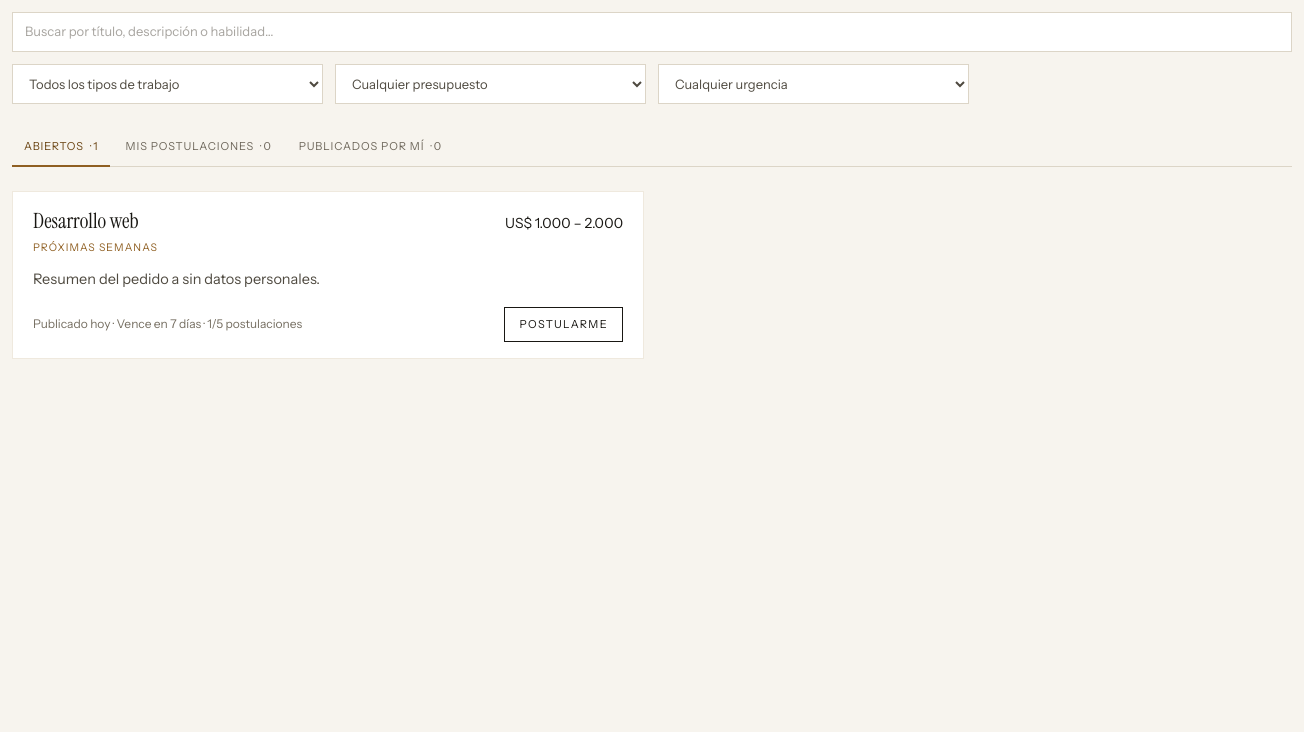
Scenario: BolsaTablero › si la base rechaza la postulación, muestra su mensaje
Click the button "Postularme".
click(564, 324)  # box [504,307,623,342]
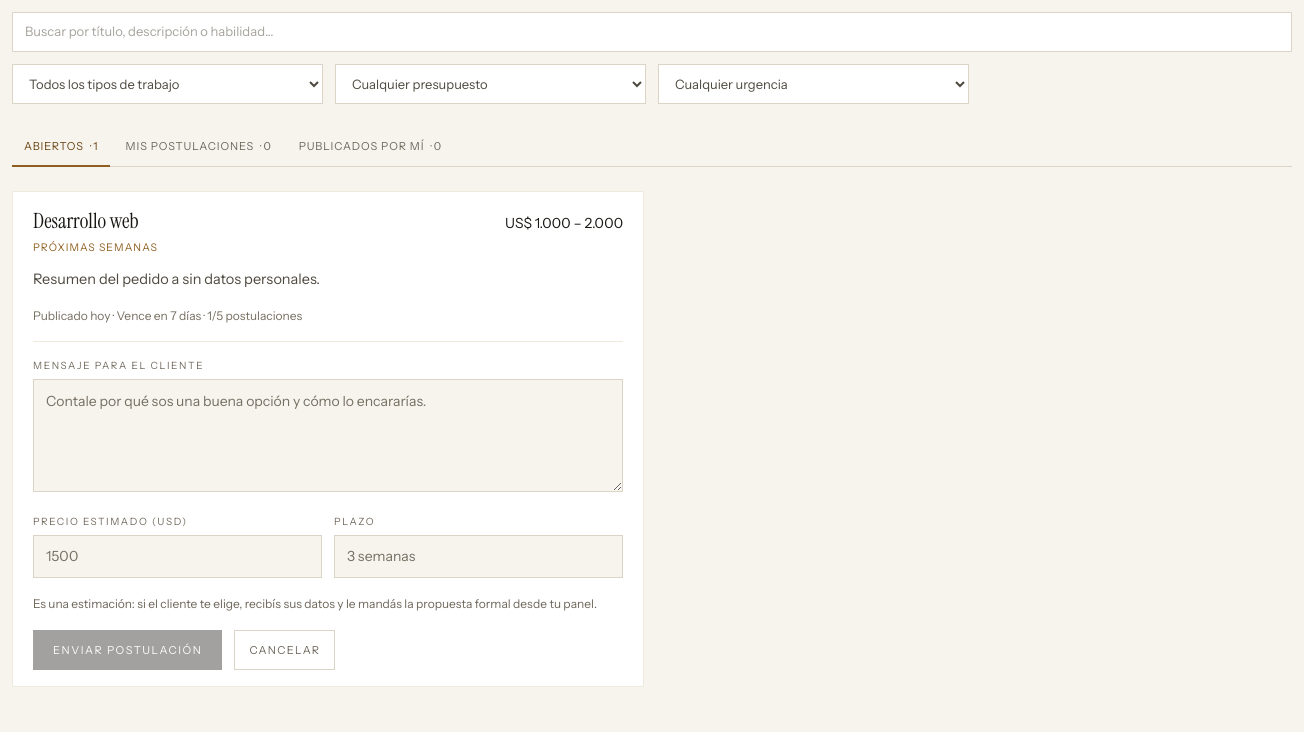
Type "Lo puedo hacer sin problema." into the text box labelled "Mensaje para el cliente".
click(328, 436); type("Lo puedo hacer sin problema.")  # box [33,379,623,492]
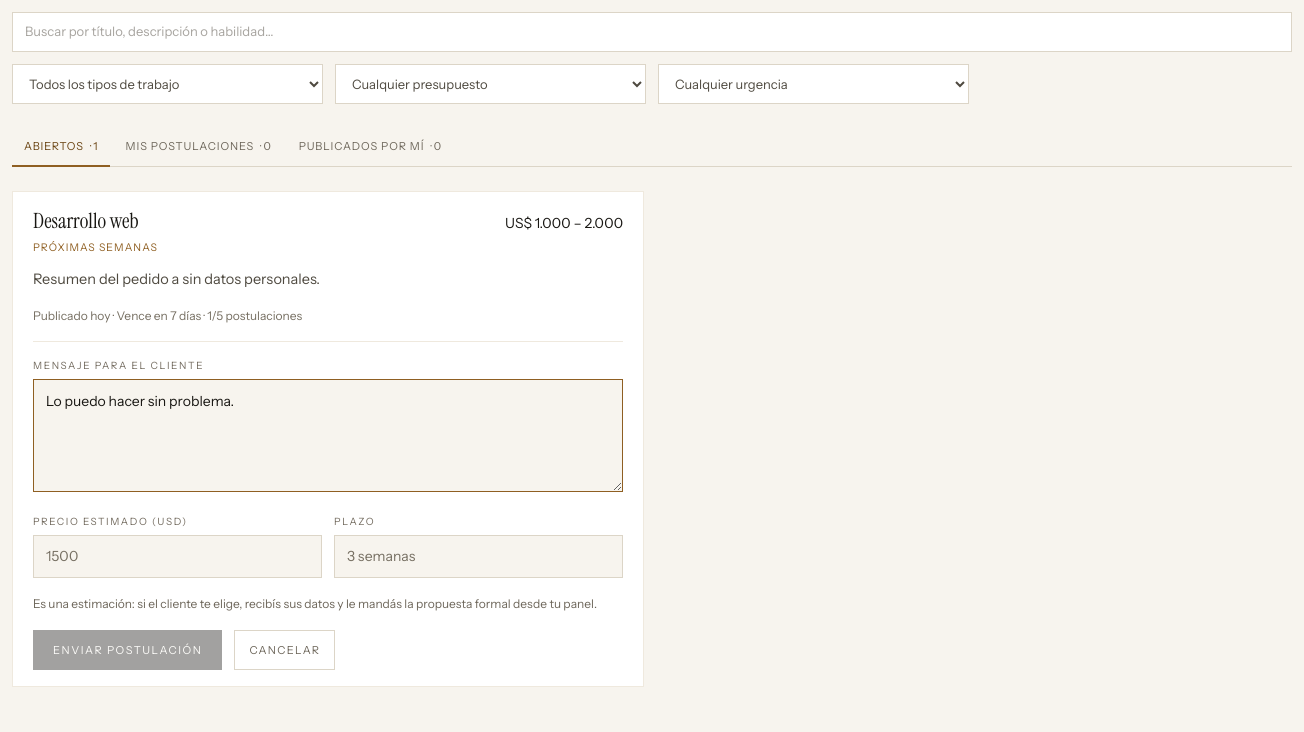
Type "900" into the field labelled "Precio estimado (USD)".
click(178, 557); type("900")  # box [33,535,322,578]
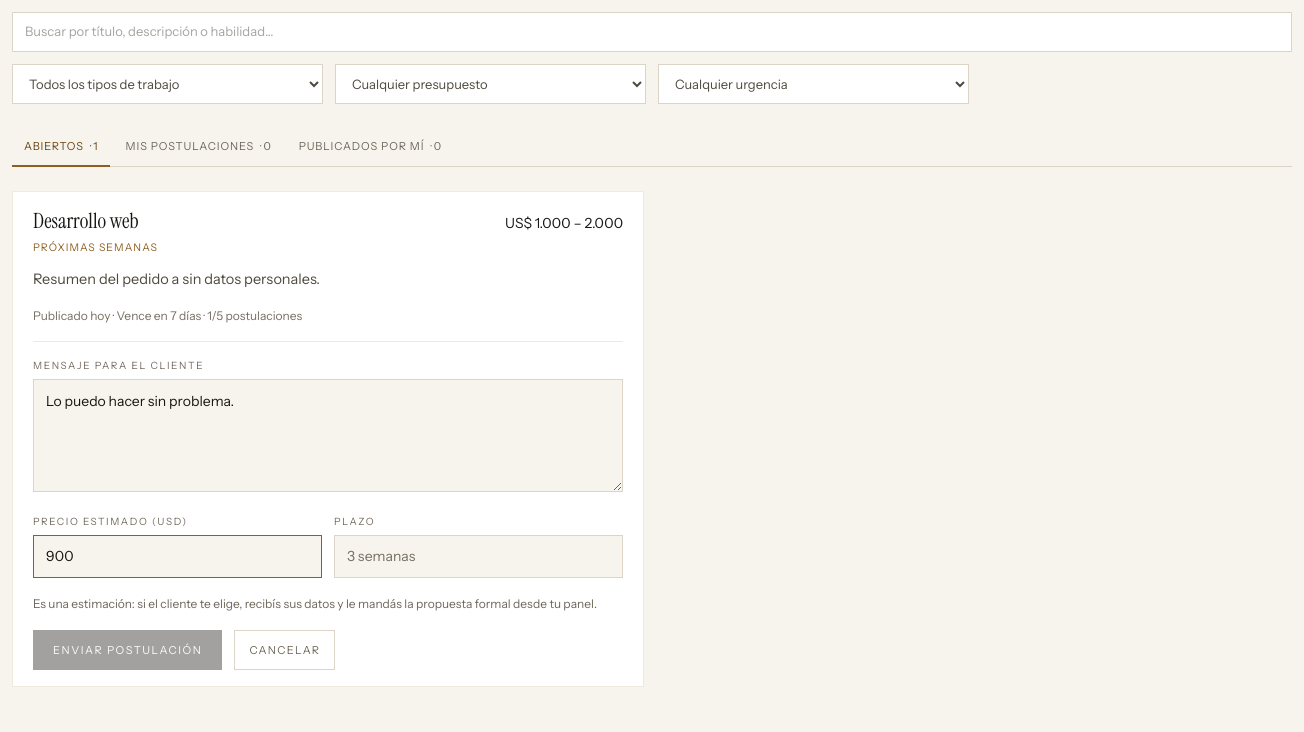
Type "2 semanas" into the field labelled "Plazo".
click(478, 557); type("2 semanas")  # box [334,535,623,578]
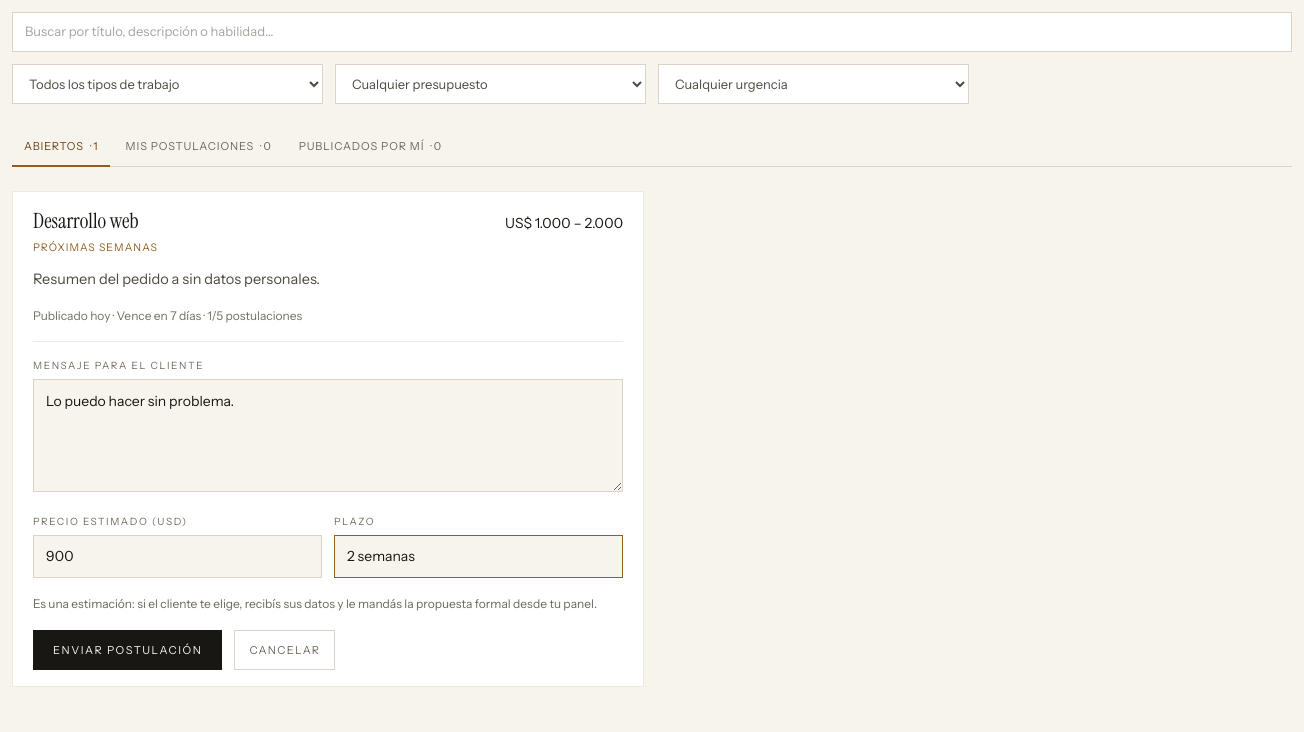
Click the button "Enviar postulación".
click(128, 650)  # box [33,630,222,670]
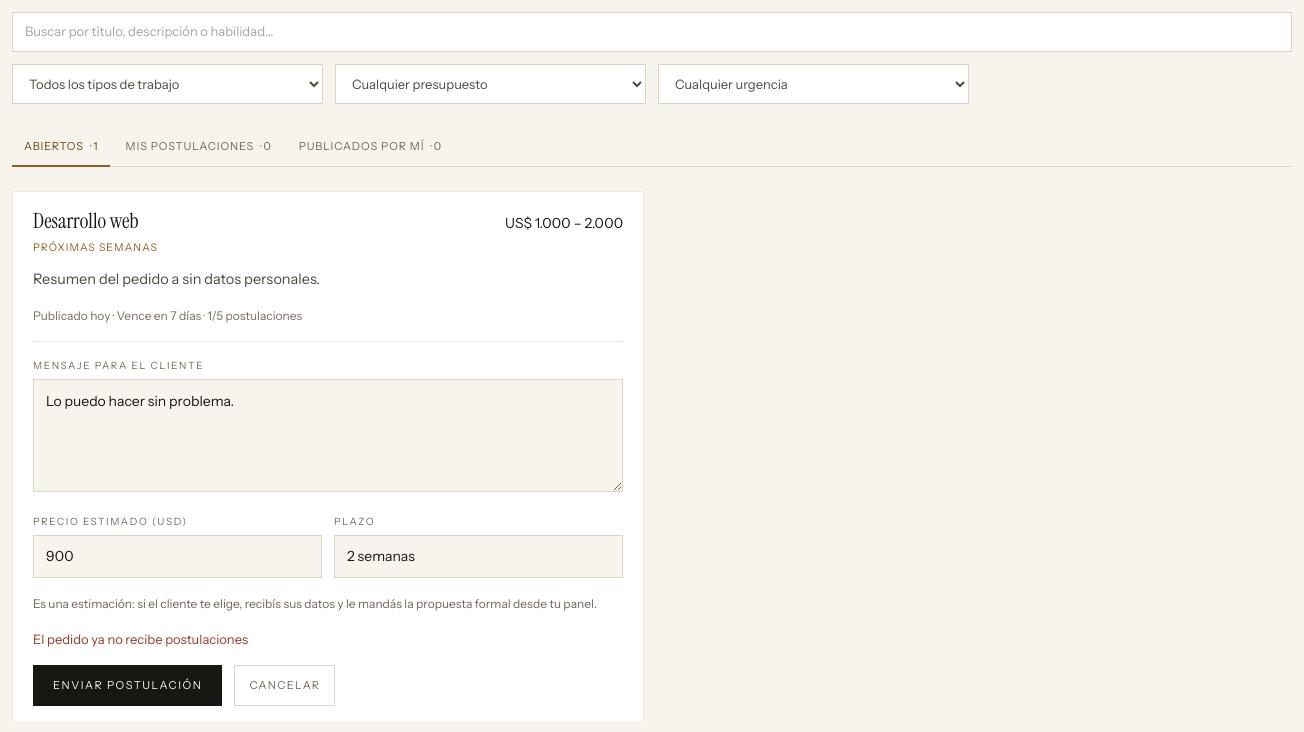
Check: the message reads "El pedido ya no recibe postulaciones", box [33,631,248,647]
